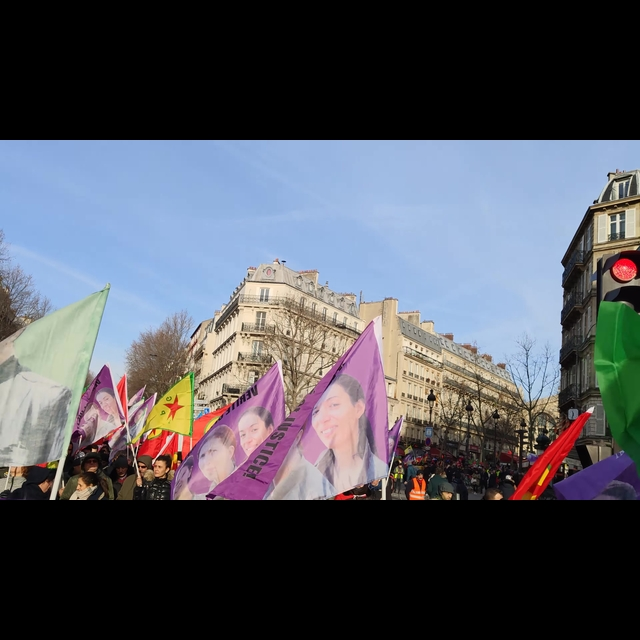YPG: (134, 372, 194, 438)
